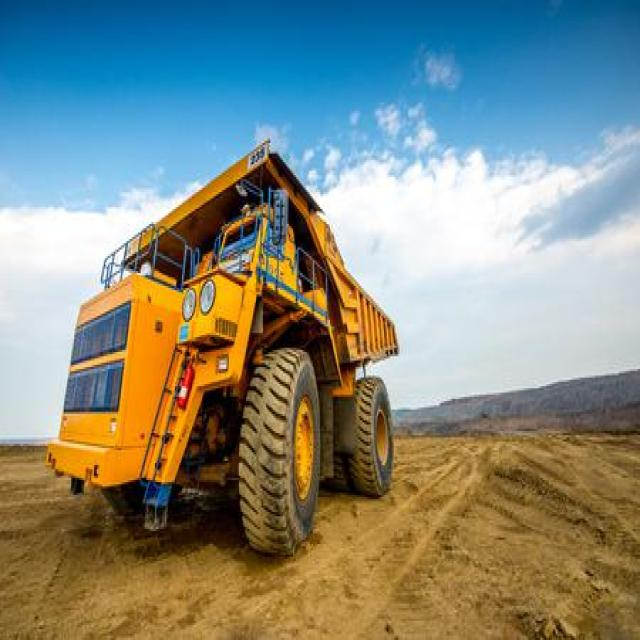Camion volquete: (41, 130, 400, 561)
